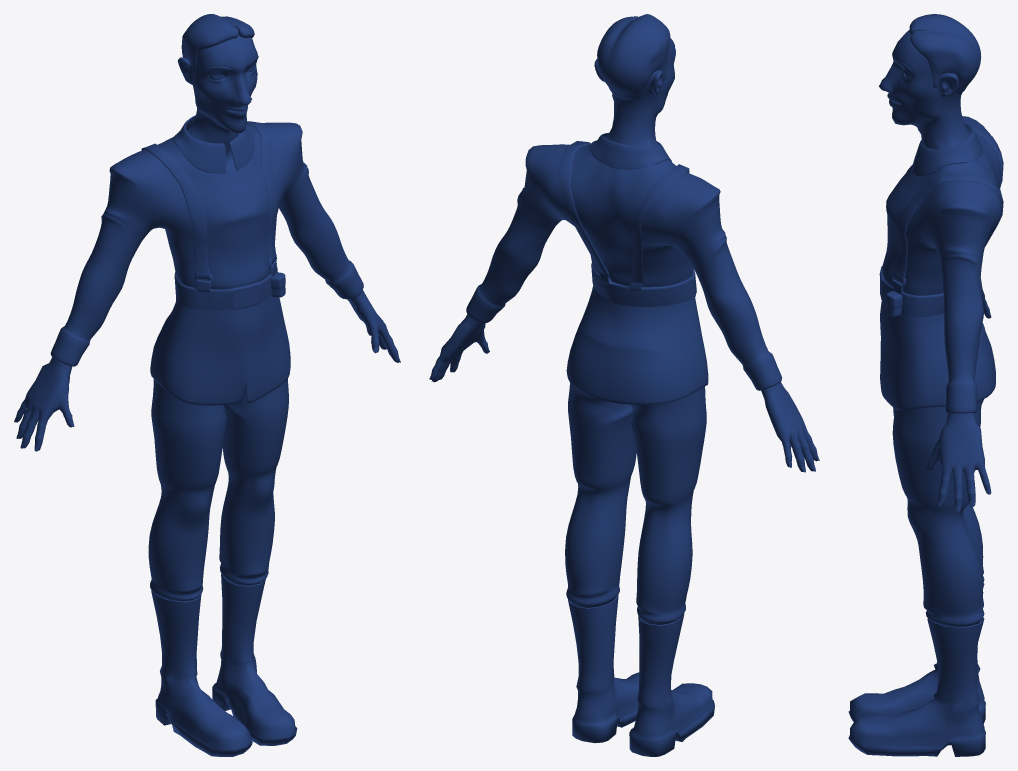
File: Cesar_Mesh.fbx
The picture shows the model from 3 angles, left to right: view 1: azimuth 30°, elevation 25°; view 2: azimuth 150°, elevation 25°; view 3: azimuth 270°, elevation 25°; orthographic projection.
Visible parts, largest first — view 1: Jacket_LP, Trouser_LP, Left_Boot_LP, Right_Boot_LP, Face_LP, Belt_LP, Left_Hand_LP, Jacket_Neck_LP, Hair_LP, Right_Hand_LP; view 2: Jacket_LP, Trouser_LP, Left_Boot_LP, Right_Boot_LP, Belt_LP, Hair_LP, Face_LP, Left_Hand_LP, Jacket_Neck_LP, Right_Hand_LP; view 3: Jacket_LP, Trouser_LP, Right_Boot_LP, Face_LP, Right_Hand_LP, Hair_LP, Belt_LP, Left_Boot_LP, Jacket_Neck_LP, Bag_LP.
Boxes of the visible parts, x1,y1,x2,y2 form: Jacket_LP: (50,122,363,405); Trouser_LP: (148,379,288,601); Left_Boot_LP: (151,590,252,756); Right_Boot_LP: (212,574,297,745); Face_LP: (177,35,257,153); Belt_LP: (141,121,277,310); Left_Hand_LP: (14,357,74,451); Jacket_Neck_LP: (173,115,254,174); Hair_LP: (181,14,254,77); Right_Hand_LP: (347,290,400,362); Jacket_LP: (466,144,781,404); Trouser_LP: (565,383,706,624); Left_Boot_LP: (629,614,714,756); Right_Boot_LP: (568,595,639,743); Belt_LP: (558,141,696,306); Hair_LP: (597,14,670,100); Face_LP: (594,38,675,146); Left_Hand_LP: (761,382,819,472); Jacket_Neck_LP: (589,133,671,169); Right_Hand_LP: (429,314,489,382); Jacket_LP: (880,116,1001,413); Trouser_LP: (892,399,984,626); Right_Boot_LP: (848,617,985,756); Face_LP: (879,30,970,149); Right_Hand_LP: (926,413,991,512); Hair_LP: (909,14,980,94); Belt_LP: (879,126,1003,317); Left_Boot_LP: (848,583,985,723); Jacket_Neck_LP: (912,122,982,176); Bag_LP: (885,291,902,316).
Bounding box in the file's own units: 103 × 184 × 36.29.
